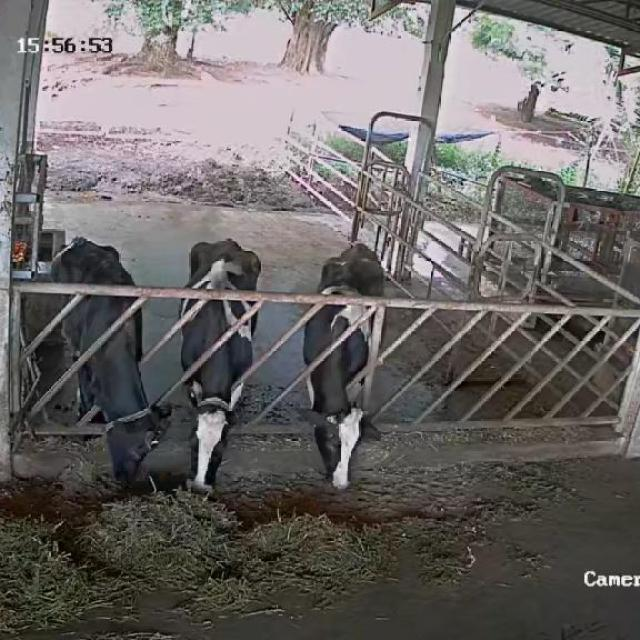feeding: (50, 234, 172, 494), (170, 237, 268, 500), (294, 241, 394, 492)
